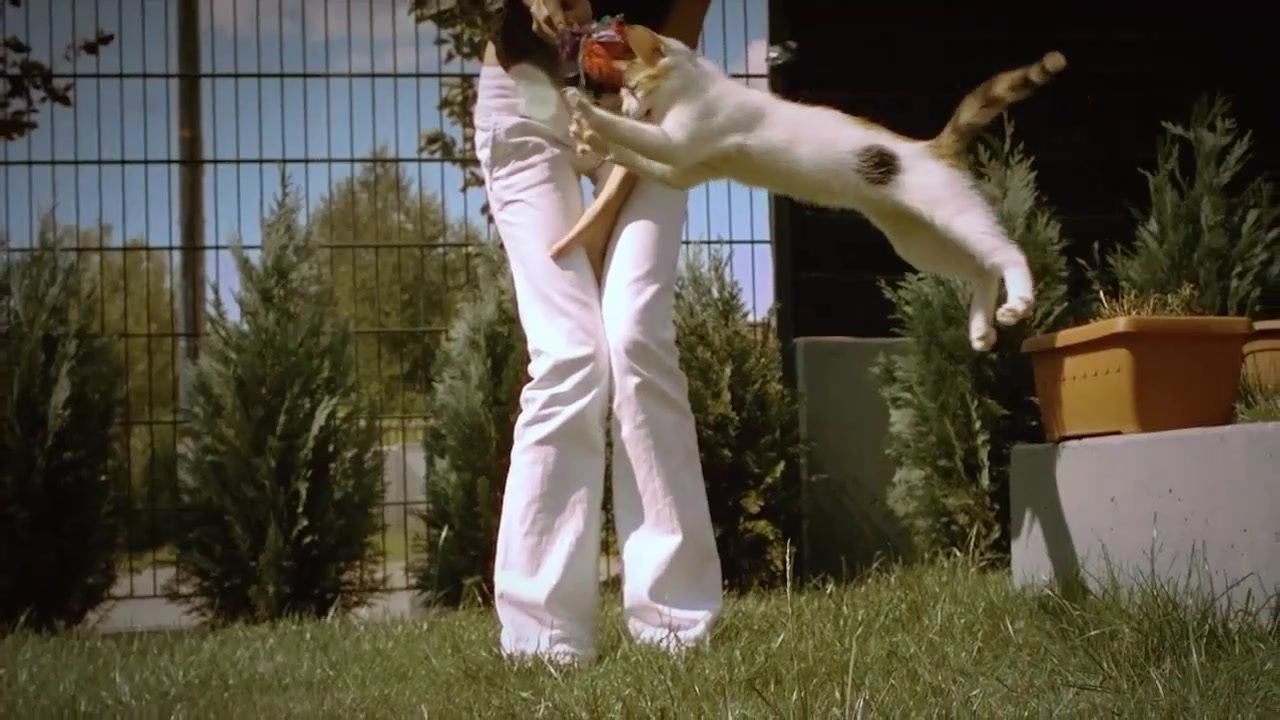cat: (568, 27, 1069, 354)
